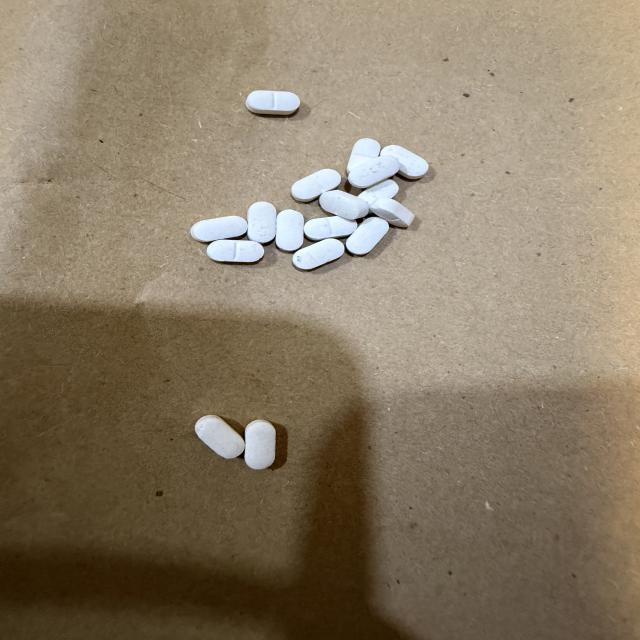pill: (195, 415, 245, 458), (348, 155, 399, 188), (293, 238, 344, 270), (292, 169, 341, 202), (347, 217, 388, 255), (381, 145, 428, 178), (245, 420, 276, 469), (191, 216, 247, 242), (320, 190, 368, 219), (245, 90, 300, 115), (207, 240, 264, 263), (370, 198, 414, 227), (304, 216, 357, 240), (247, 202, 276, 243), (276, 210, 304, 251), (347, 139, 380, 173), (358, 179, 398, 206)
